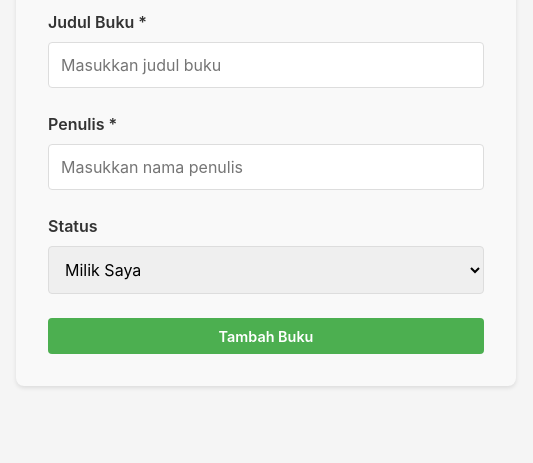
Scenario: BookForm Component › Menampilkan error saat submit dengan field kosong
The image size is (533, 463).
Click the button "Tambah Buku" at coordinates (266, 336), box [48,318,484,354]
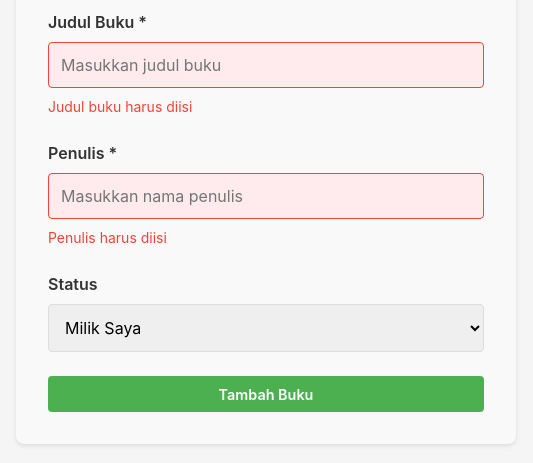
Check: the text "Judul buku harus diisi" is shown, box [48,98,192,115]
Check: the text "Penulis harus diisi" is shown, box [48,229,167,246]
